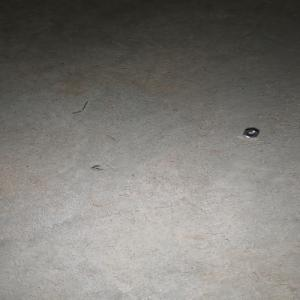Nut: (242, 127, 259, 138)
